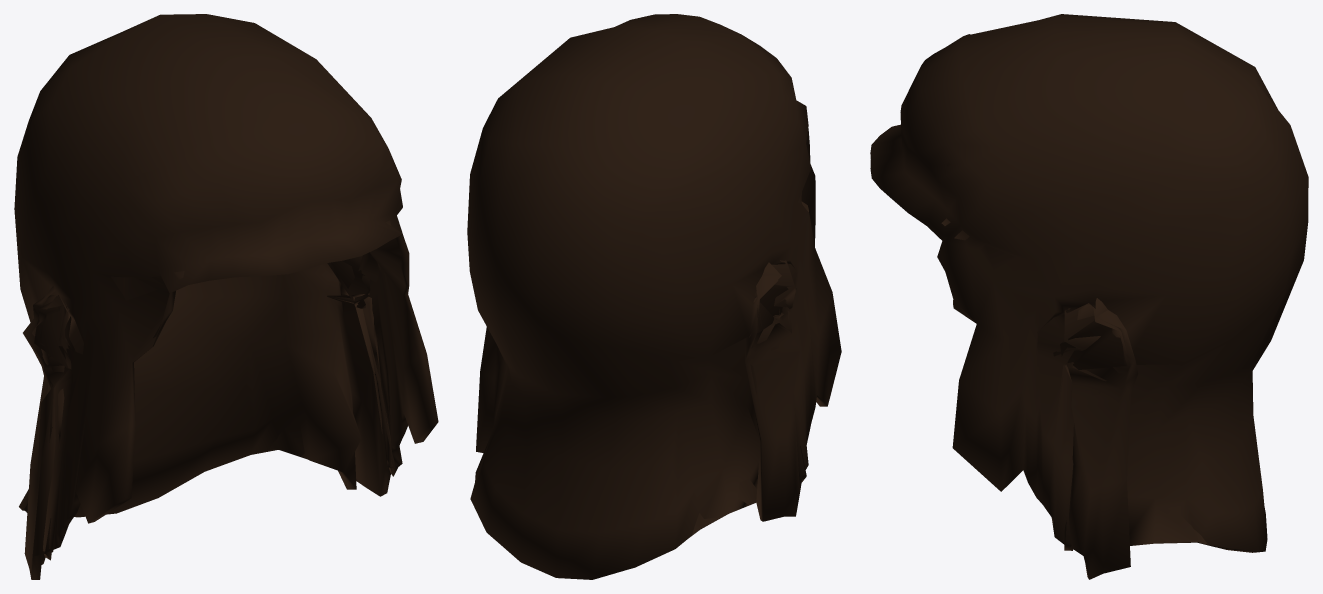
The model's file is hair_bob.glb.
The picture shows the model from 3 angles, left to right: view 1: azimuth 30°, elevation 25°; view 2: azimuth 150°, elevation 25°; view 3: azimuth 270°, elevation 25°; orthographic projection. The views are drawn at different scales.
Visible parts, largest first — view 1: hair_bob; view 2: hair_bob; view 3: hair_bob.
Part boxes in pixels (box(x1,y1,x2,y2)): hair_bob: box(14, 14, 438, 579); hair_bob: box(467, 14, 841, 579); hair_bob: box(870, 14, 1308, 579).
Bounding box in the file's own units: 0.22 × 0.3142 × 0.2457.
